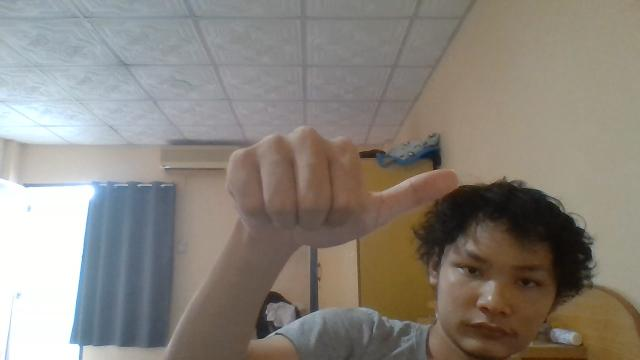left: (225, 125, 459, 249)
